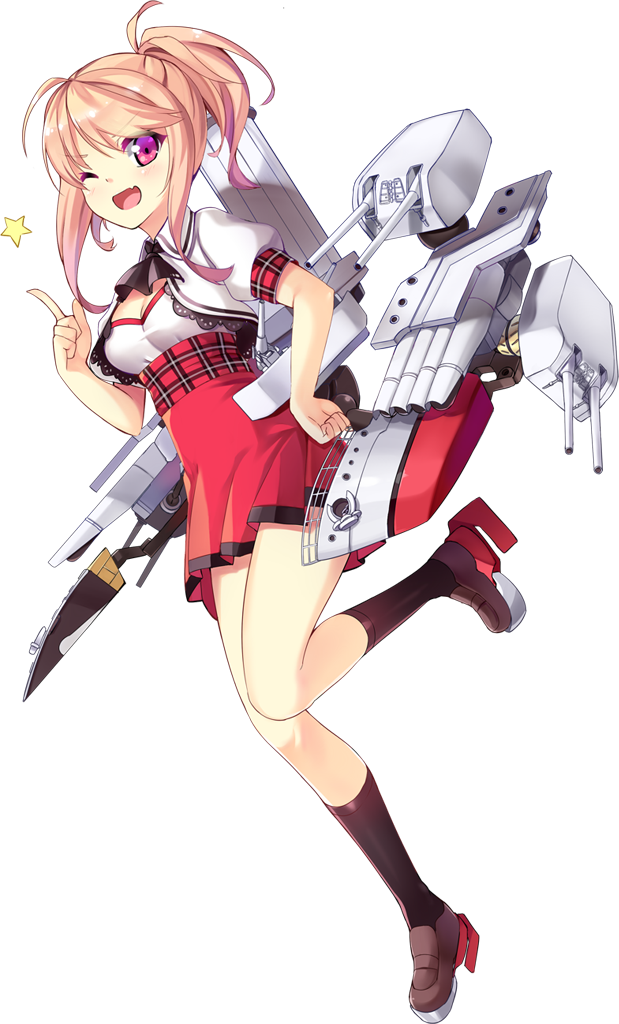person: (1, 51, 446, 783)
